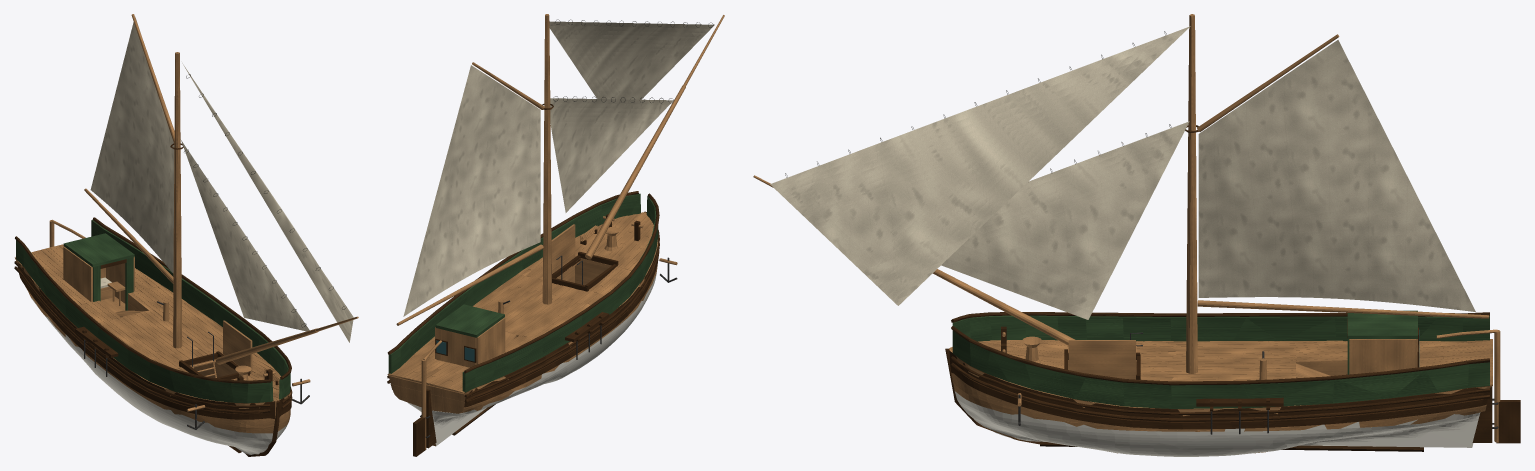
File: ship_lod2.glb
3 renders of one model, left to right at view 1: azimuth 30°, elevation 25°; view 2: azimuth 150°, elevation 25°; view 3: azimuth 270°, elevation 25°, orthographic. The views are drawn at different scales.
Parts seen in each view (by area): view 1: lod2_gaff_main_set_1, lod2_sloop_hull_1, lod2_individual_deck_boards_1, lod2_inner_staysail_set_1, lod2_merchant_bulwark_1, lod2_merchant_bulwark_3, lod2_outer_jib_set_1, lod2_main_mast_timber_1, lod2_cabin_roof_1, lod2_caprail_1, lod2_cabin_side_1, lod2_wale_3 (+9 smaller); view 2: lod2_gaff_main_set_1, lod2_individual_deck_boards_1, lod2_outer_jib_set_1, lod2_sloop_hull_1, lod2_inner_staysail_set_1, lod2_merchant_bulwark_3, lod2_merchant_bulwark_1, lod2_main_mast_timber_1, lod2_cabin_roof_1, lod2_bowsprit_timber_1, lod2_caprail_1, lod2_cabin_side_1 (+11 smaller); view 3: lod2_gaff_main_set_1, lod2_outer_jib_set_1, lod2_sloop_hull_1, lod2_inner_staysail_set_1, lod2_merchant_bulwark_3, lod2_merchant_bulwark_1, lod2_individual_deck_boards_1, lod2_main_mast_timber_1, lod2_caprail_3, lod2_cargo_hatch_lid_open_1, lod2_cabin_side_3, lod2_wale_7 (+9 smaller).
Boxes of the visible parts, <box> form: lod2_gaff_main_set_1: <box>90,18,174,273</box>; lod2_sloop_hull_1: <box>15,257,291,454</box>; lod2_individual_deck_boards_1: <box>15,244,280,400</box>; lod2_inner_staysail_set_1: <box>181,140,309,331</box>; lod2_merchant_bulwark_1: <box>16,238,273,403</box>; lod2_merchant_bulwark_3: <box>91,220,290,399</box>; lod2_outer_jib_set_1: <box>182,63,353,342</box>; lod2_main_mast_timber_1: <box>173,52,182,348</box>; lod2_cabin_roof_1: <box>63,233,134,267</box>; lod2_caprail_1: <box>15,236,270,383</box>; lod2_cabin_side_1: <box>63,246,92,301</box>; lod2_wale_3: <box>14,266,270,413</box>; lod2_gaff_main_set_1: <box>403,65,540,316</box>; lod2_individual_deck_boards_1: <box>388,212,653,393</box>; lod2_outer_jib_set_1: <box>549,21,714,99</box>; lod2_sloop_hull_1: <box>387,212,659,446</box>; lod2_inner_staysail_set_1: <box>550,98,673,212</box>; lod2_merchant_bulwark_3: <box>388,193,640,373</box>; lod2_merchant_bulwark_1: <box>462,196,658,392</box>; lod2_main_mast_timber_1: <box>542,14,552,304</box>; lod2_cabin_roof_1: <box>435,304,504,337</box>; lod2_bowsprit_timber_1: <box>585,85,685,259</box>; lod2_caprail_1: <box>464,193,659,373</box>; lod2_cabin_side_1: <box>476,317,505,364</box>; lod2_gaff_main_set_1: <box>1198,40,1475,311</box>; lod2_outer_jib_set_1: <box>770,26,1190,305</box>; lod2_sloop_hull_1: <box>949,342,1492,456</box>; lod2_inner_staysail_set_1: <box>941,121,1189,319</box>; lod2_merchant_bulwark_3: <box>952,330,1489,408</box>; lod2_merchant_bulwark_1: <box>952,315,1489,341</box>; lod2_individual_deck_boards_1: <box>949,339,1492,385</box>; lod2_main_mast_timber_1: <box>1186,14,1197,373</box>; lod2_caprail_3: <box>951,326,1489,385</box>; lod2_cargo_hatch_lid_open_1: <box>1068,340,1135,379</box>; lod2_cabin_side_3: <box>1349,339,1416,374</box>; lod2_wale_7: <box>951,362,1489,421</box>.
Size of the model in its own units: 5.83 by 15.4 by 24.55.
Materials: 8 (6 with a texture image).
